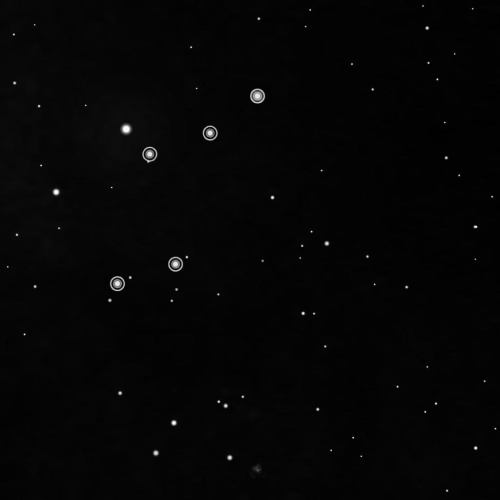lyra: (107, 83, 267, 296)
